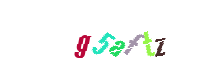5: (69, 0, 149, 80)
A: (69, 0, 149, 80)
F: (86, 0, 166, 80)
G: (42, 0, 122, 80)
T: (108, 0, 188, 80)
Z: (120, 0, 200, 80)
